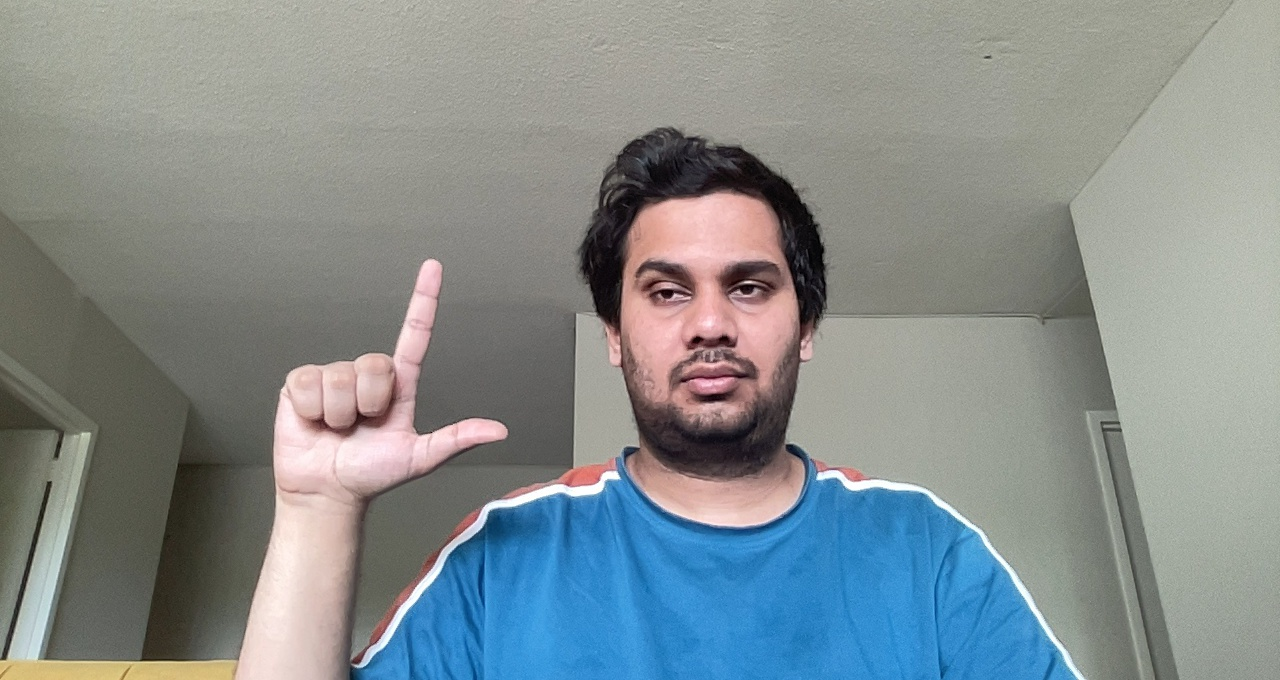L: (260, 251, 520, 504)
